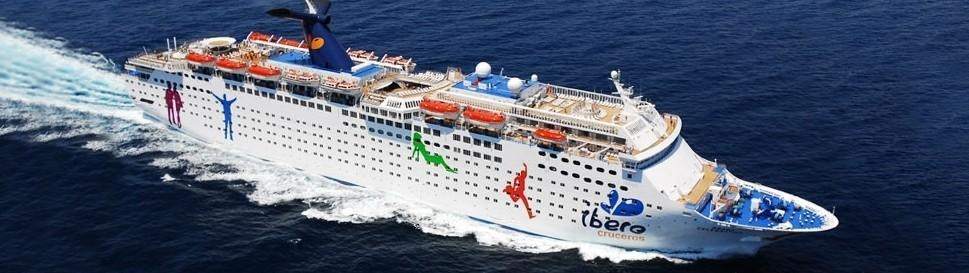youlun: (124, 19, 838, 258)
